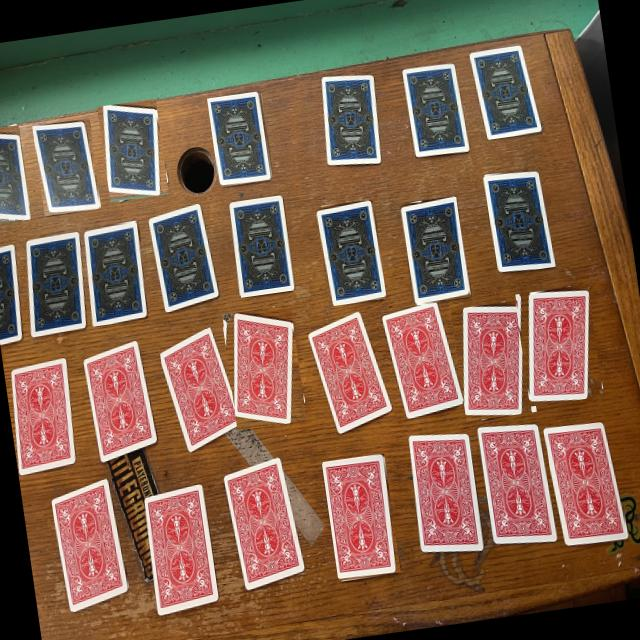card back: (224, 457, 304, 589), (160, 327, 241, 451), (52, 478, 128, 610), (546, 422, 627, 544), (145, 483, 218, 615), (478, 423, 557, 543), (383, 300, 463, 417), (323, 453, 397, 578), (409, 432, 483, 551), (316, 199, 386, 305), (483, 169, 555, 271), (401, 195, 469, 303), (12, 358, 75, 474), (150, 203, 217, 311), (529, 287, 590, 399), (229, 194, 295, 296), (235, 311, 295, 423), (471, 44, 542, 138), (464, 304, 524, 415), (85, 221, 148, 325), (26, 231, 87, 337), (403, 62, 469, 156), (33, 121, 100, 211), (208, 90, 272, 183), (321, 74, 381, 165), (105, 103, 162, 194), (0, 132, 30, 219), (0, 244, 22, 343)
